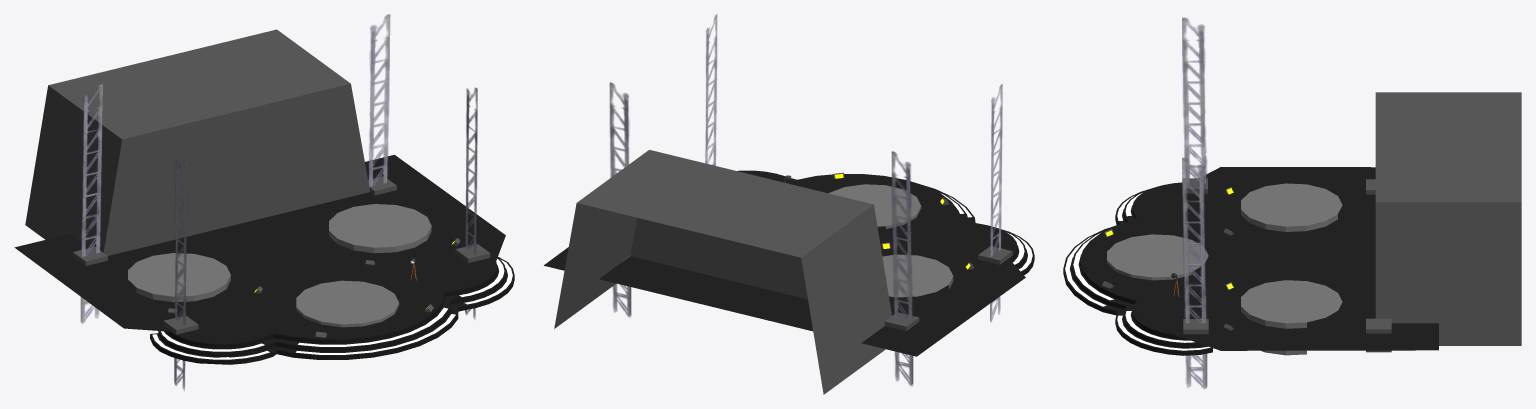
File: results-scene.OLD.glb
The picture shows the model from 3 angles, left to right: view 1: azimuth 30°, elevation 25°; view 2: azimuth 150°, elevation 25°; view 3: azimuth 270°, elevation 25°; orthographic projection.
Visible parts, largest first — view 1: stage.001; view 2: stage.001; view 3: stage.001.
Part boxes in pixels (x1=…): stage.001: x1=14, y1=14, x2=514, y2=390; stage.001: x1=544, y1=14, x2=1034, y2=394; stage.001: x1=1063, y1=17, x2=1521, y2=388.
Size of the model in its own units: 34.23 by 20.15 by 36.05.
10 materials, 1 textured.
